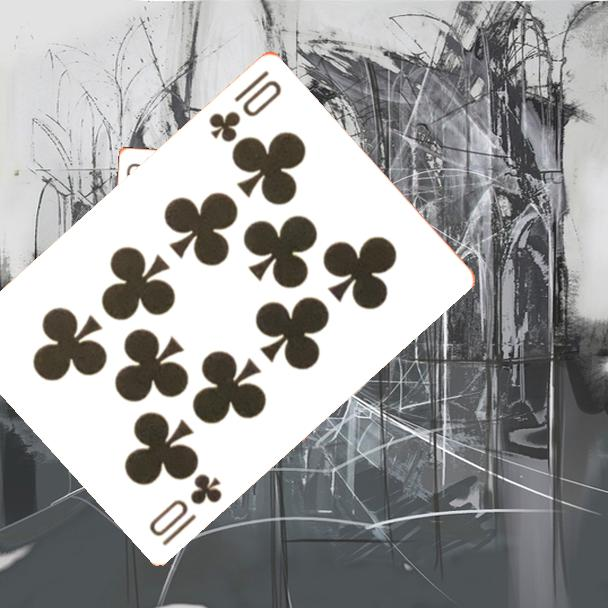c10: (145, 469, 226, 549), (205, 66, 285, 145)
